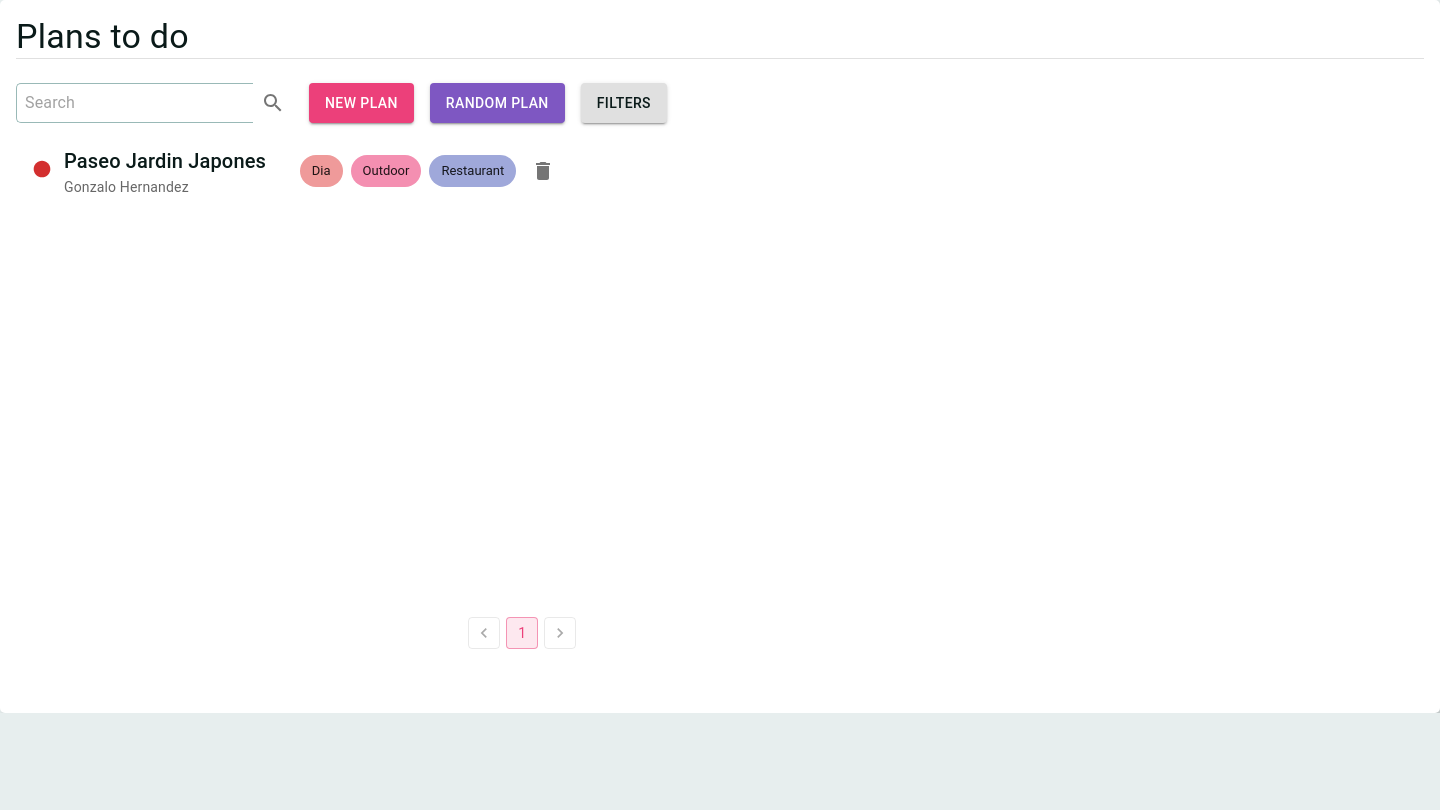
Test: when clicking the delete icon on a plan that plan is deleted
Expected: the heading "Paseo Jardin Japones" is shown, [64, 145, 300, 177]
Click the button with test id "DeleteIcon" at (543,171), box [523, 151, 563, 191]
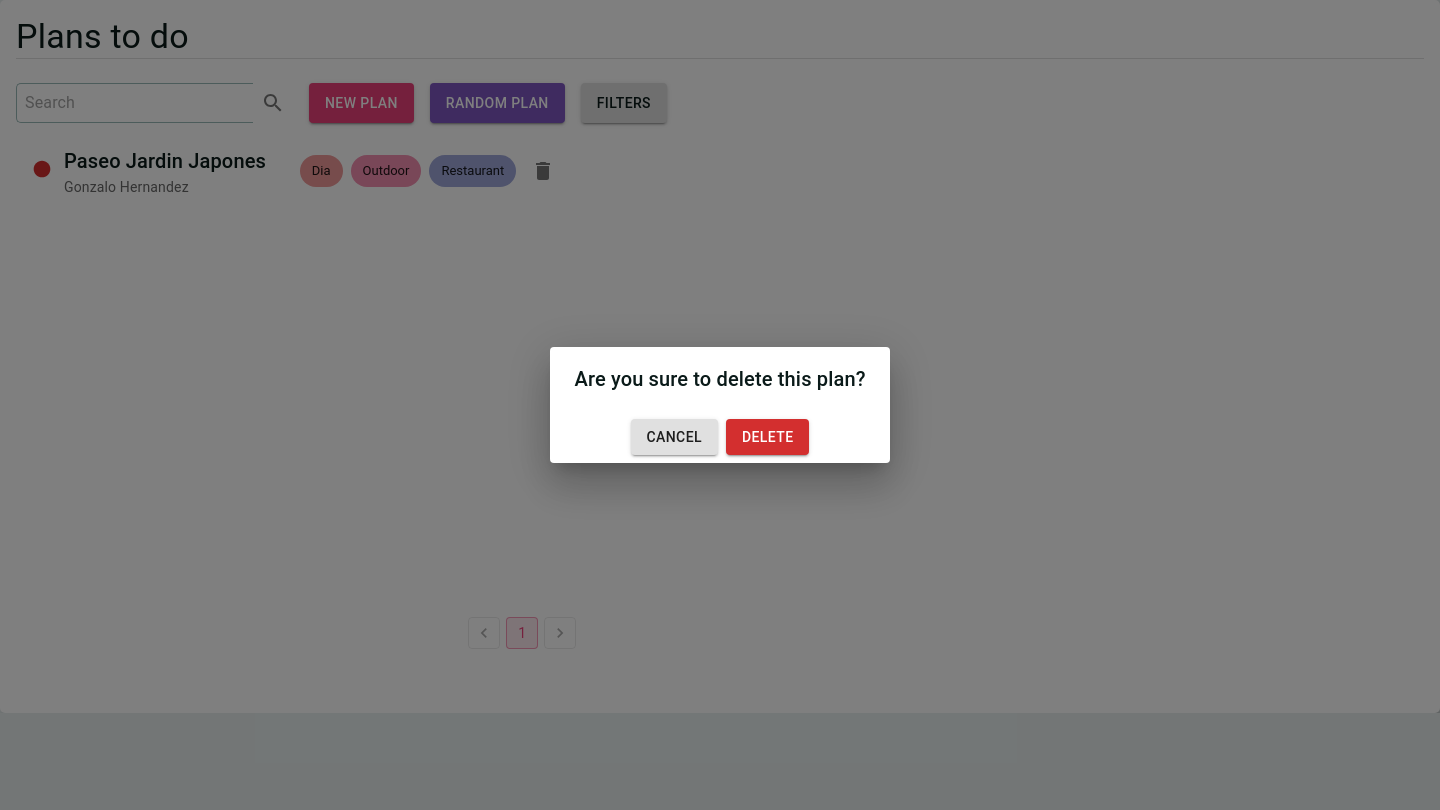
Click the button "Delete" at (768,437), box [726, 419, 810, 455]
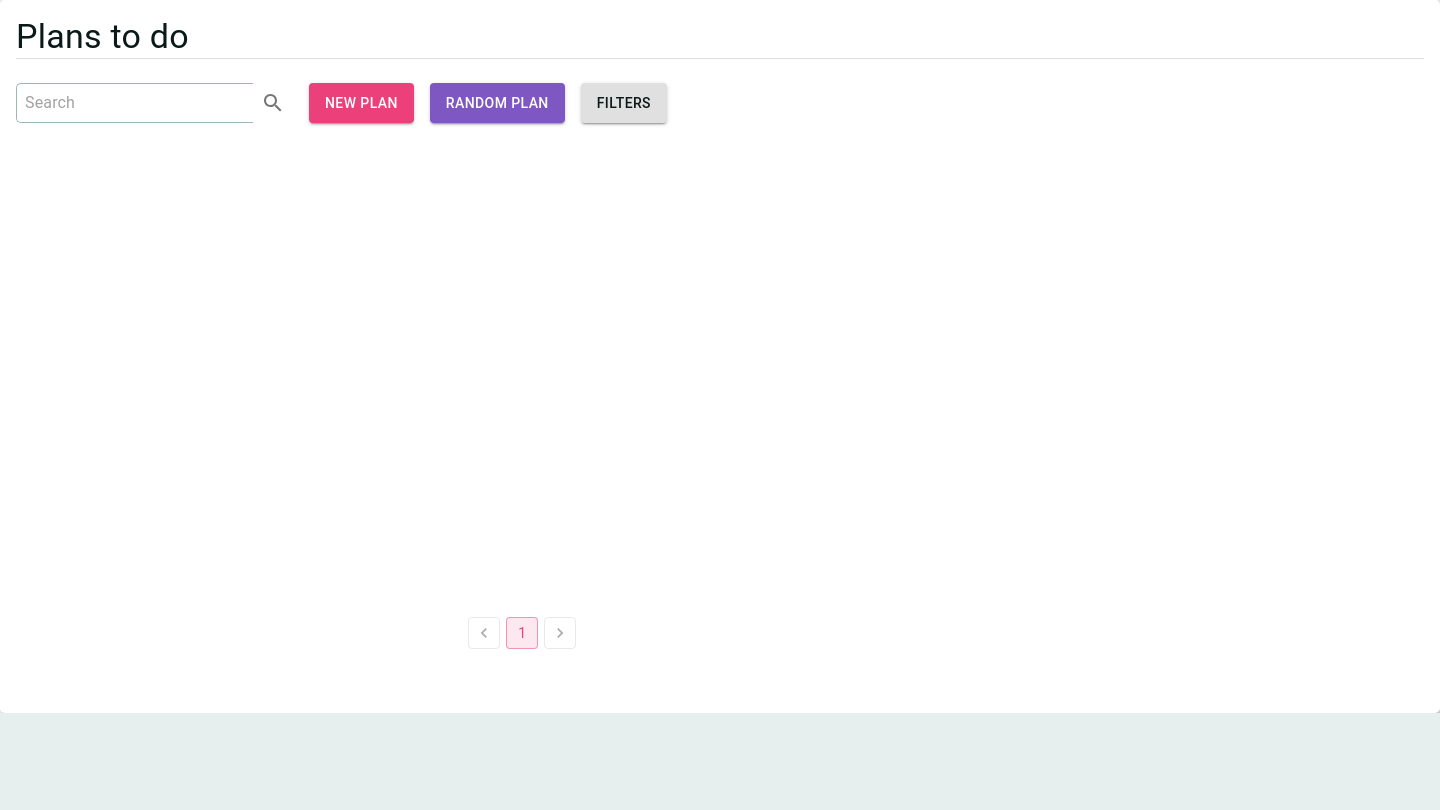
Now the button "Paseo Jardin Japones" is gone
